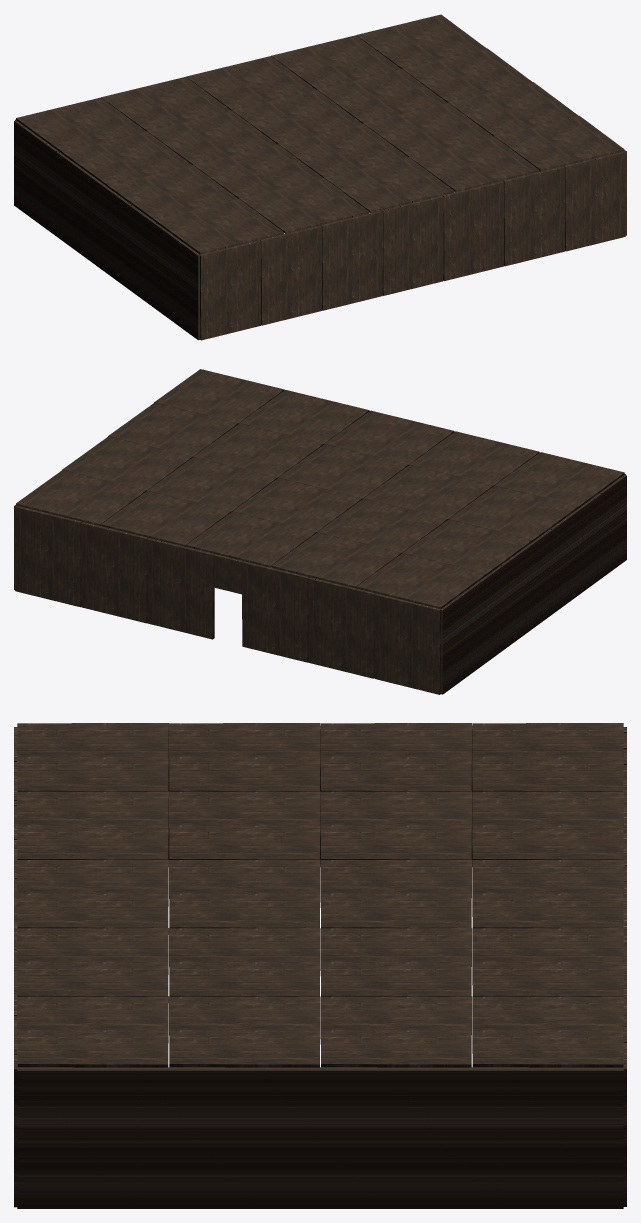
Rendered from int-shell-workroom-a.glb.
The picture shows the model from 3 angles, top to bottom: view 1: azimuth 30°, elevation 25°; view 2: azimuth 150°, elevation 25°; view 3: azimuth 270°, elevation 25°; orthographic projection. The views are drawn at different scales.
Visible parts, largest first — view 1: ceiling_backing_00_00; view 2: ceiling_backing_00_00; view 3: ceiling_backing_00_00.
Part boxes in pixels (left/top/right/bottom): ceiling_backing_00_00: left=14, top=14, right=626, bottom=340; ceiling_backing_00_00: left=14, top=369, right=626, bottom=694; ceiling_backing_00_00: left=14, top=723, right=626, bottom=1208.
Bounding box in the file's own units: 20.16 × 3.91 × 15.16.
2 materials, 2 textured.
